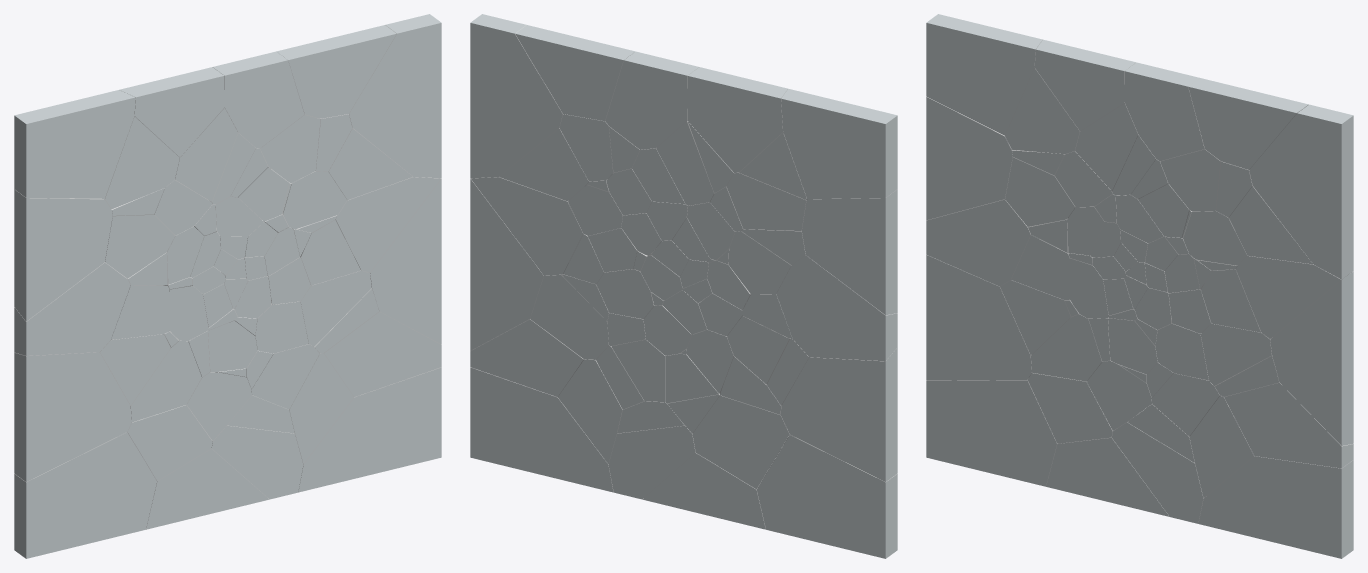
The model's file is Wall01_frac.fbx.
3 views of the same model, side by side, from view 1: azimuth 30°, elevation 25°; view 2: azimuth 150°, elevation 25°; view 3: azimuth 330°, elevation 25° (orthographic).
Visible parts, largest first — view 1: Wall01_cell.063, Wall01_cell.062, Wall01_cell.032, Wall01_cell.058, Wall01_cell.073, Wall01_cell.059, Wall01_cell.034, Wall01_cell.024, Wall01_cell.031, Wall01_cell.072, Wall01_cell.030, Wall01_cell.028 (+41 smaller); view 2: Wall01_cell.063, Wall01_cell.062, Wall01_cell.032, Wall01_cell.073, Wall01_cell.058, Wall01_cell.059, Wall01_cell.024, Wall01_cell.034, Wall01_cell.028, Wall01_cell.031, Wall01_cell.030, Wall01_cell.013 (+45 smaller); view 3: Wall01_cell.032, Wall01_cell.073, Wall01_cell.063, Wall01_cell.062, Wall01_cell.058, Wall01_cell.034, Wall01_cell.059, Wall01_cell.031, Wall01_cell.072, Wall01_cell.024, Wall01_cell.030, Wall01_cell.028 (+41 smaller).
Boxes of the visible parts, x1,y1,x2,y2 form: Wall01_cell.063: (14, 432, 156, 558); Wall01_cell.062: (14, 352, 131, 481); Wall01_cell.032: (349, 14, 441, 178); Wall01_cell.058: (14, 90, 135, 198); Wall01_cell.073: (298, 367, 441, 492); Wall01_cell.059: (14, 189, 112, 321); Wall01_cell.034: (369, 179, 441, 344); Wall01_cell.024: (14, 262, 130, 355); Wall01_cell.031: (276, 25, 396, 118); Wall01_cell.072: (324, 311, 441, 396); Wall01_cell.030: (213, 51, 304, 148); Wall01_cell.028: (119, 67, 224, 157); Wall01_cell.063: (756, 435, 897, 558); Wall01_cell.062: (781, 348, 897, 481); Wall01_cell.032: (470, 14, 562, 178); Wall01_cell.073: (470, 367, 613, 492); Wall01_cell.058: (781, 88, 897, 199); Wall01_cell.059: (802, 189, 897, 315); Wall01_cell.024: (776, 255, 897, 361); Wall01_cell.034: (470, 179, 543, 350); Wall01_cell.028: (687, 67, 787, 172); Wall01_cell.031: (515, 25, 635, 121); Wall01_cell.030: (605, 51, 698, 149); Wall01_cell.013: (470, 177, 582, 275); Wall01_cell.032: (1249, 104, 1353, 279); Wall01_cell.073: (1198, 456, 1353, 558); Wall01_cell.063: (926, 379, 1060, 486); Wall01_cell.062: (926, 255, 1031, 380); Wall01_cell.058: (926, 14, 1042, 135); Wall01_cell.034: (1270, 271, 1353, 445); Wall01_cell.059: (926, 96, 1015, 220); Wall01_cell.031: (1188, 78, 1308, 169); Wall01_cell.072: (1224, 382, 1353, 468); Wall01_cell.024: (926, 199, 1030, 286); Wall01_cell.030: (1124, 62, 1204, 161); Wall01_cell.028: (1034, 39, 1135, 131).
Bounding box in the file's own units: 400 × 400 × 20.
